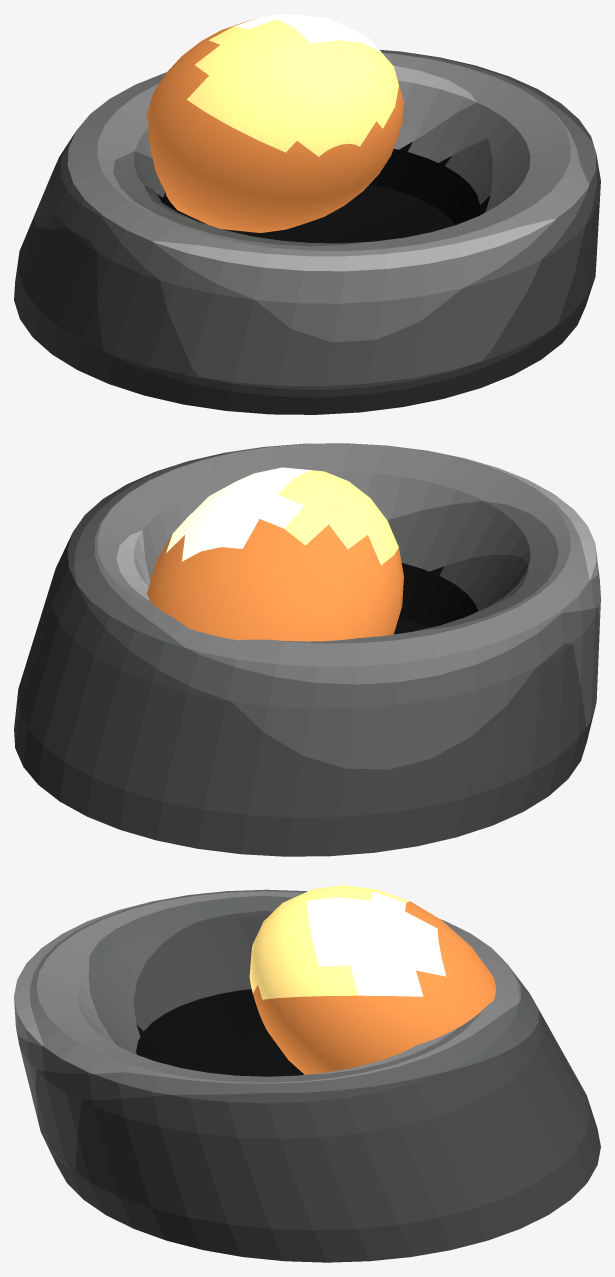
The model's file is fruit_hex_eye_237.glb.
3 renders of one model, top to bottom at view 1: azimuth 30°, elevation 25°; view 2: azimuth 150°, elevation 25°; view 3: azimuth 270°, elevation 25°, orthographic. The views are drawn at different scales.
Parts seen in each view (by area): view 1: fruit_hex_eye_237; view 2: fruit_hex_eye_237; view 3: fruit_hex_eye_237.
Part boxes in pixels (left/top/right/bottom): fruit_hex_eye_237: left=14, top=14, right=600, bottom=414; fruit_hex_eye_237: left=14, top=443, right=600, bottom=856; fruit_hex_eye_237: left=14, top=885, right=600, bottom=1262.
Size of the model in its own units: 10.5 by 5.23 by 11.15.
